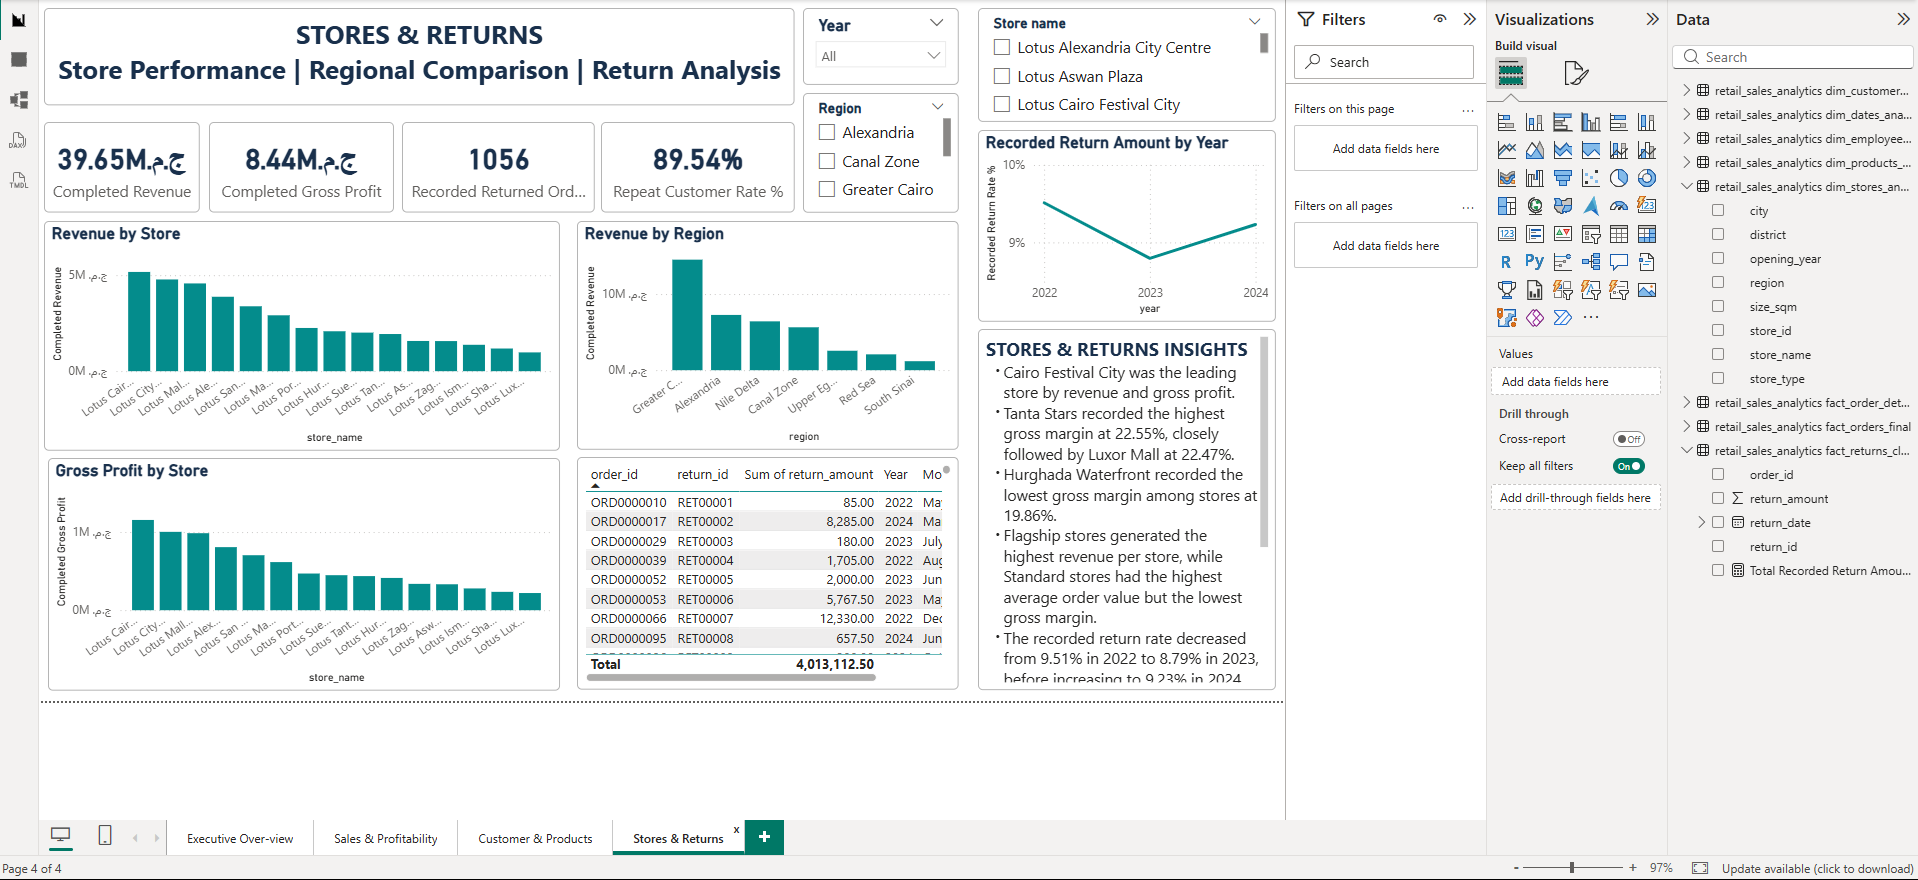

What the dashboard file says about the page in this screenshot:
{"tool":"powerbi","page":{"name":"Stores & Returns","canvas":[1280,720],"ordinal":3},"visuals":[{"type":"textbox","box":[5.1,8.2,771.5,99.6],"z":0},{"type":"card","fields":{"Values":["retail_sales_analytics fact_orders_final.Completed Revenue"]},"box":[5.1,125.3,160.3,93.5],"z":1000},{"type":"card","fields":{"Values":["retail_sales_analytics fact_orders_final.Completed Gross Profit"]},"box":[174.6,125.3,190,93.5],"z":1001},{"type":"card","fields":{"Values":["retail_sales_analytics fact_orders_final.Recorded Returned Orders"]},"box":[372.9,125.3,198.3,93.5],"z":1002},{"type":"card","fields":{"Values":["retail_sales_analytics fact_orders_final.Repeat Customer Rate %"]},"box":[577.3,125.3,199.3,93.5],"z":1003},{"type":"clusteredColumnChart","title":"Revenue by Store","fields":{"Y":["retail_sales_analytics fact_orders_final.Completed Revenue"],"Category":["retail_sales_analytics dim_stores_analytics.store_name"]},"box":[5.1,227,530.1,236.3],"z":1004},{"type":"clusteredColumnChart","title":"Gross Profit by Store","fields":{"Category":["retail_sales_analytics dim_stores_analytics.store_name"],"Y":["retail_sales_analytics fact_orders_final.Completed Gross Profit"]},"box":[9.2,470.5,526,239.4],"z":1005},{"type":"clusteredColumnChart","title":"Revenue by Region","fields":{"Y":["retail_sales_analytics fact_orders_final.Completed Revenue"],"Category":["retail_sales_analytics dim_stores_analytics.region"]},"box":[552.7,227,392.4,235.2],"z":1006},{"type":"lineChart","title":"Recorded Return Amount by Year","fields":{"Category":["retail_sales_analytics dim_dates_analytics.year"],"Y":["retail_sales_analytics fact_orders_final.Recorded Return Rate %"]},"box":[964.6,133.5,306.1,197.2],"z":1007},{"type":"tableEx","fields":{"Values":["retail_sales_analytics fact_returns_clean.order_id","retail_sales_analytics fact_returns_clean.return_id","Sum(retail_sales_analytics fact_returns_clean.return_amount)","retail_sales_analytics fact_returns_clean.return_date.Variation.Date Hierarchy.Year","retail_sales_analytics fact_returns_clean.return_date.Variation.Date Hierarchy.Month","retail_sales_analytics fact_returns_clean.return_date.Variation.Date Hierarchy.Day"]},"box":[552.7,469.5,392.4,239.4],"z":1008},{"type":"slicer","fields":{"Values":["retail_sales_analytics dim_dates_analytics.year"]},"box":[784.8,8.2,160.3,79.1],"z":1009},{"type":"slicer","fields":{"Values":["retail_sales_analytics dim_stores_analytics.region"]},"box":[784.8,95.5,160.3,123.3],"z":1010},{"type":"slicer","fields":{"Values":["retail_sales_analytics dim_stores_analytics.store_name"]},"box":[964.6,8.2,306.1,117.1],"z":1011},{"type":"textbox","box":[964.6,338,306.1,370.9],"z":1012}]}

Visuals, with their boxes on the page's 1280x720 design canvas (x1, y1, x2, y2). These are canvas units, not pixel positions in the 1918x880 screenshot, which may show the page scaled, cropped or inside an application window:
textbox: Rect(5, 8, 777, 108)
card - retail_sales_analytics fact_orders_final.Completed Revenue: Rect(5, 125, 165, 219)
card - retail_sales_analytics fact_orders_final.Completed Gross Profit: Rect(175, 125, 365, 219)
card - retail_sales_analytics fact_orders_final.Recorded Returned Orders: Rect(373, 125, 571, 219)
card - retail_sales_analytics fact_orders_final.Repeat Customer Rate %: Rect(577, 125, 777, 219)
"Revenue by Store" clusteredColumnChart: Rect(5, 227, 535, 463)
"Gross Profit by Store" clusteredColumnChart: Rect(9, 470, 535, 710)
"Revenue by Region" clusteredColumnChart: Rect(553, 227, 945, 462)
"Recorded Return Amount by Year" lineChart: Rect(965, 134, 1271, 331)
tableEx - retail_sales_analytics fact_returns_clean.order_id x retail_sales_analytics fact_returns_clean.return_id: Rect(553, 470, 945, 709)
slicer - retail_sales_analytics dim_dates_analytics.year: Rect(785, 8, 945, 87)
slicer - retail_sales_analytics dim_stores_analytics.region: Rect(785, 96, 945, 219)
slicer - retail_sales_analytics dim_stores_analytics.store_name: Rect(965, 8, 1271, 125)
textbox: Rect(965, 338, 1271, 709)
